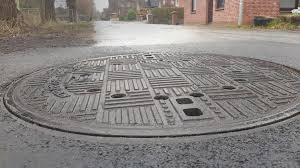Manhole-Closed: (2, 49, 300, 137)
